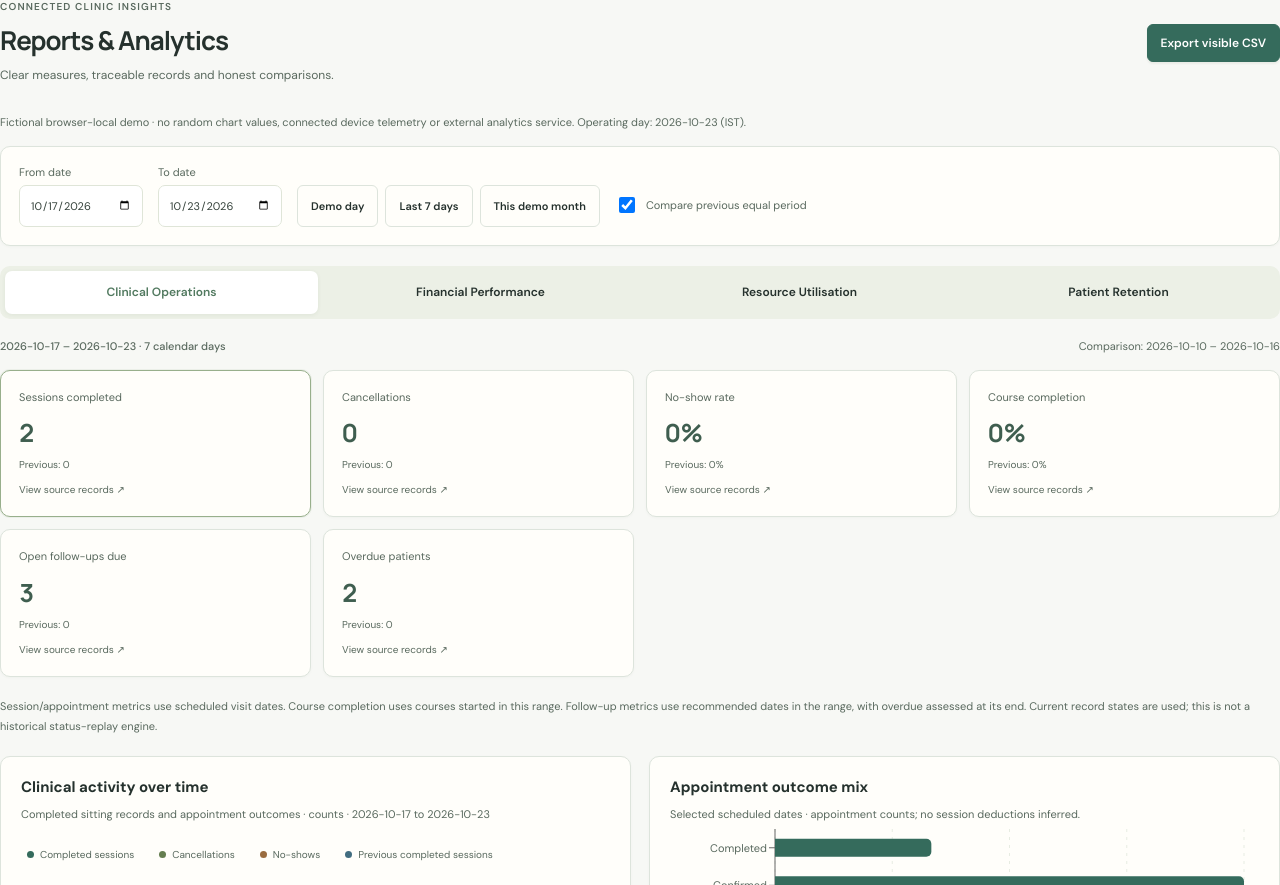
it: analytics interactions › recalculates room planning utilisation after saving configuration and rejects invalid dates
Click the button "Resource Utilisation" at (800, 292), box x1=643 y1=271 x2=956 y2=314
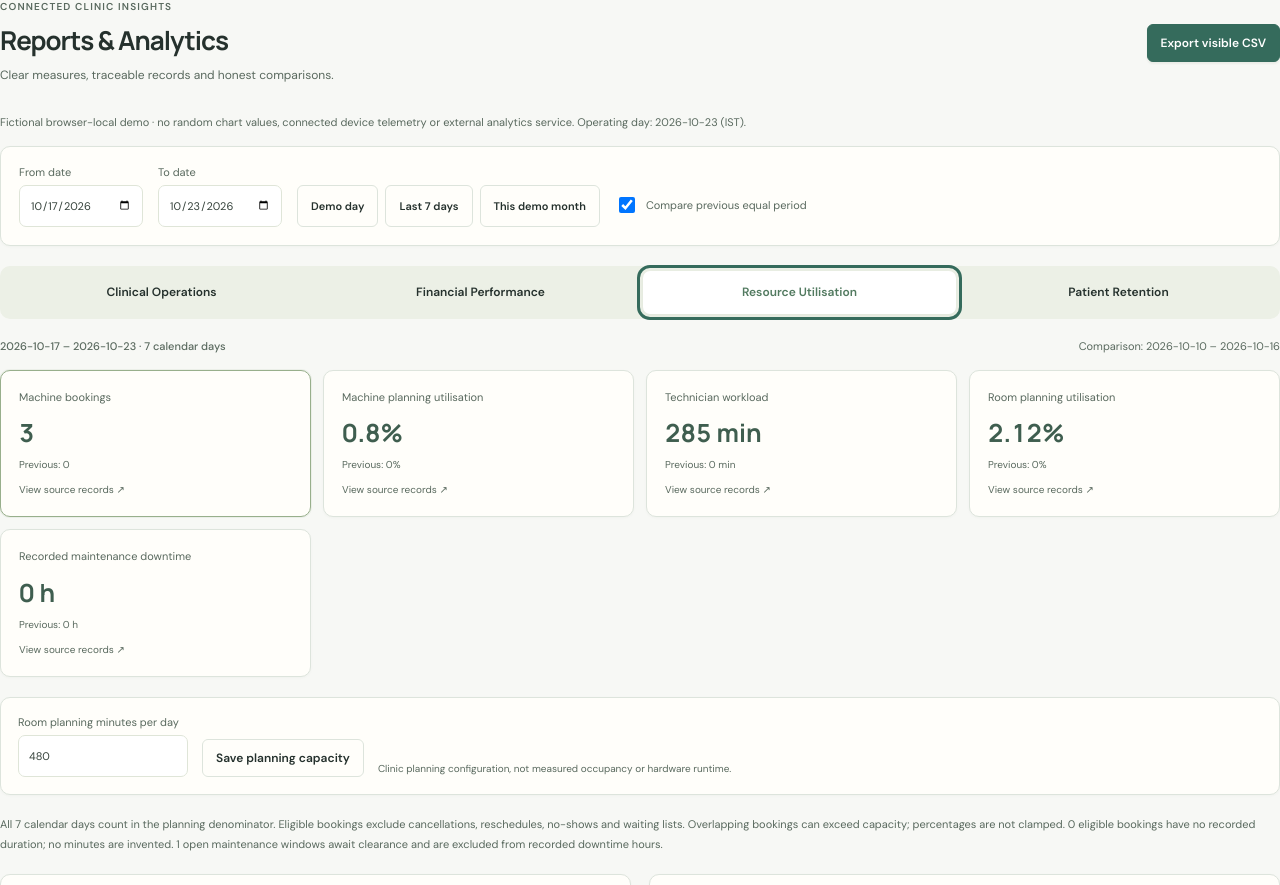
Replace the text in the number field labelled "Room planning minutes per day" with "240" at (103, 756), box x1=18 y1=735 x2=188 y2=777
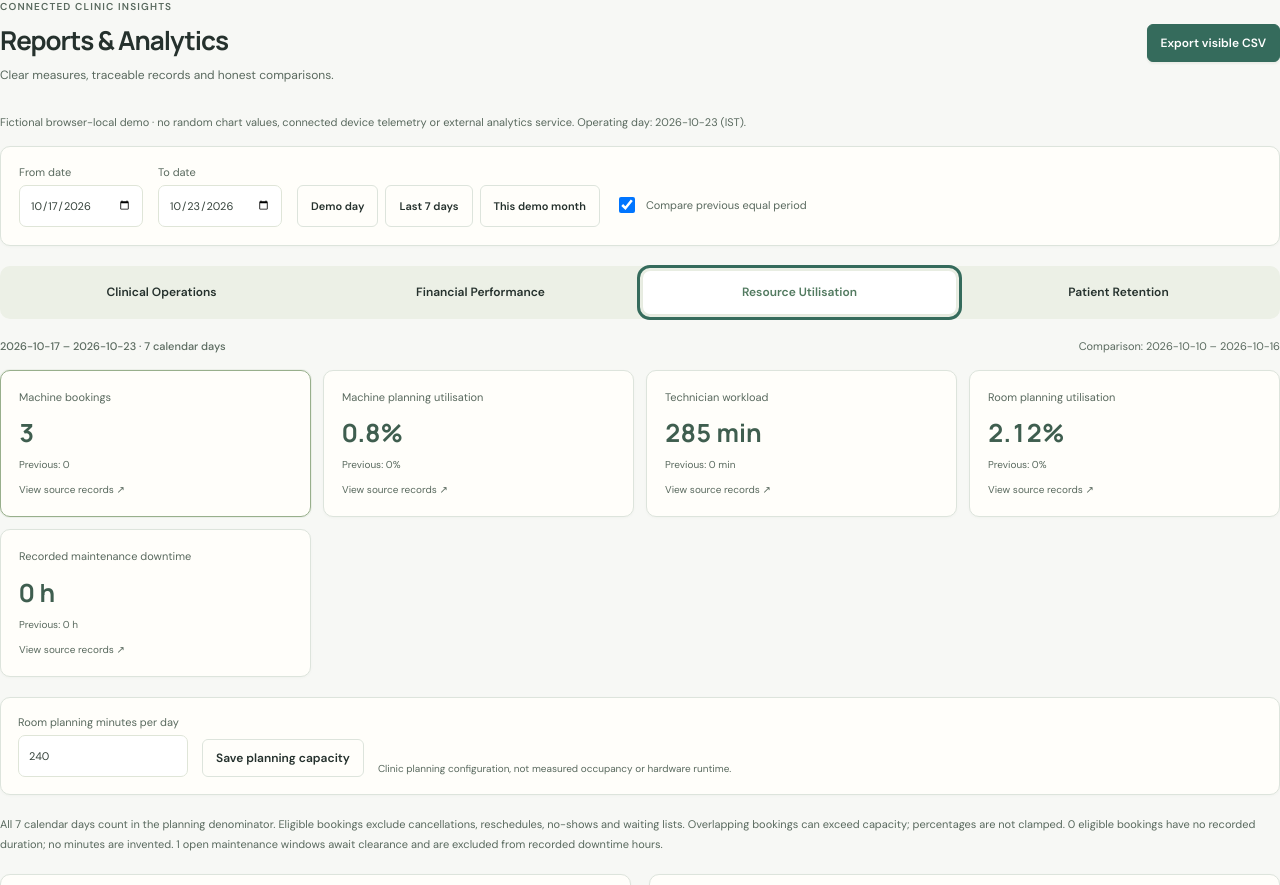
Click the button "Save planning capacity" at (283, 758), box x1=202 y1=739 x2=364 y2=777
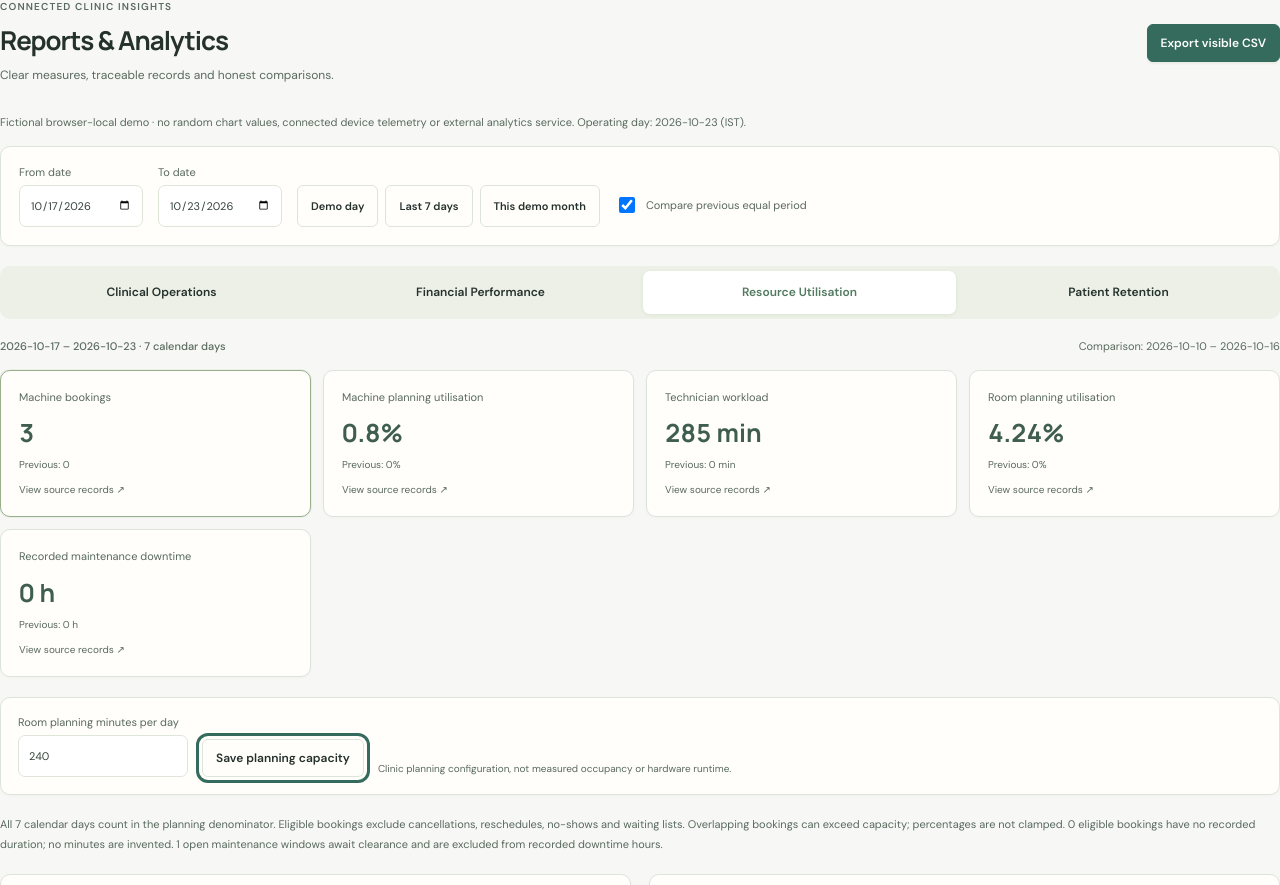
Type "2026-10-24" into the date field named "Report from date" at (81, 206), box x1=19 y1=185 x2=143 y2=227
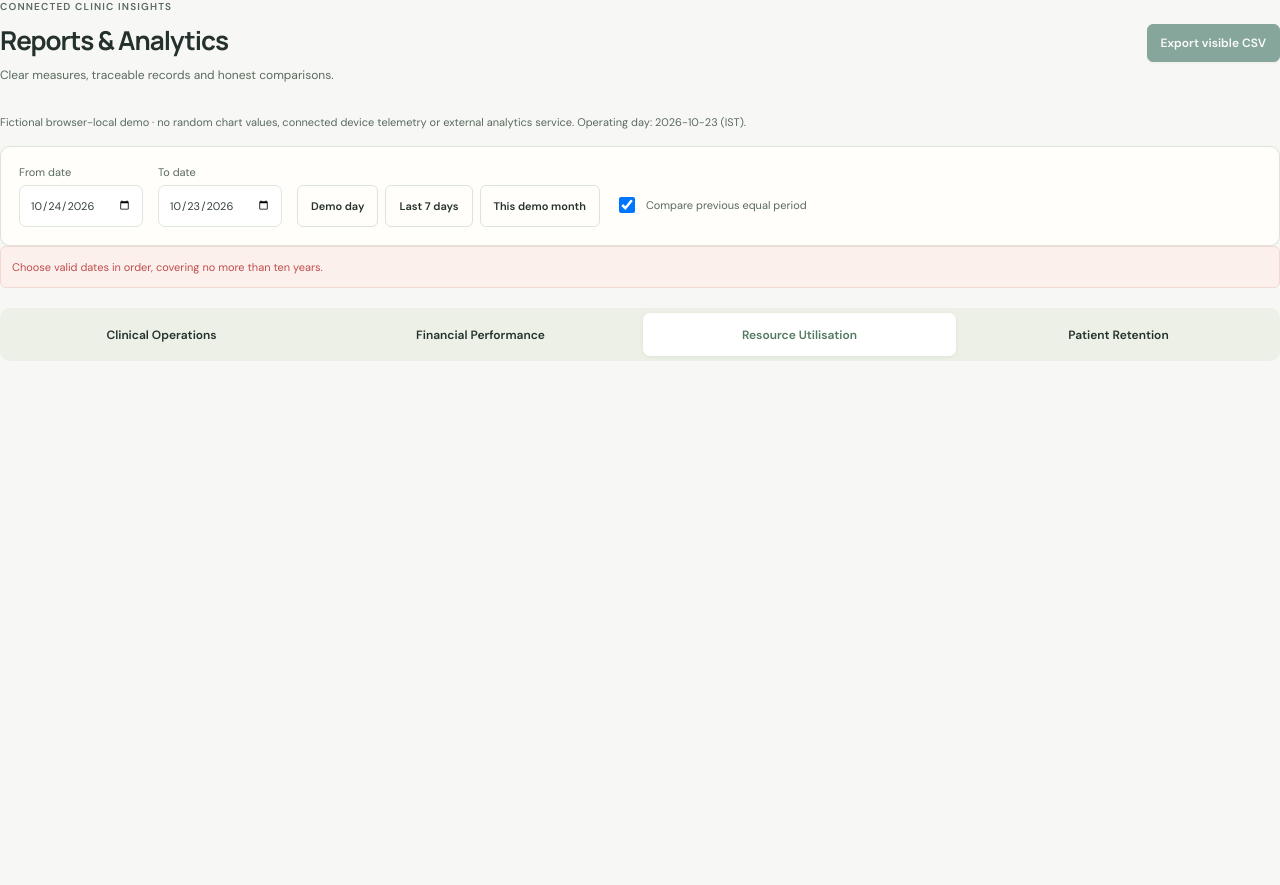
Now the message shows "Choose valid dates", box x1=12 y1=260 x2=323 y2=274
Now the button "Export visible CSV" is disabled, box x1=1147 y1=24 x2=1279 y2=62
